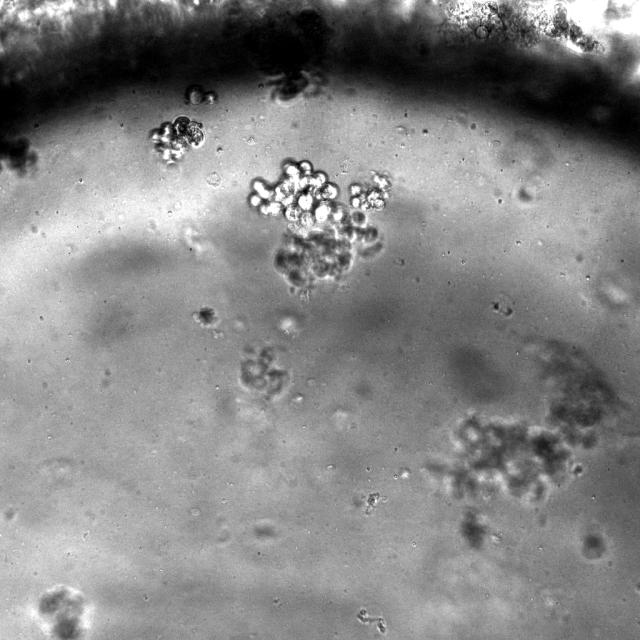organoid: (432, 340, 619, 500), (249, 161, 383, 292), (37, 584, 86, 639), (240, 345, 288, 399), (151, 115, 204, 163), (349, 173, 390, 210), (186, 85, 217, 107), (192, 306, 218, 328)
